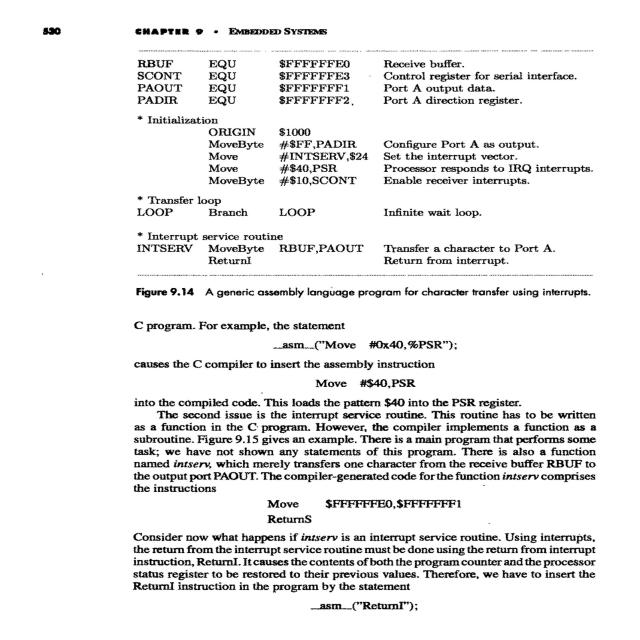diagram: (85, 49, 628, 304)
